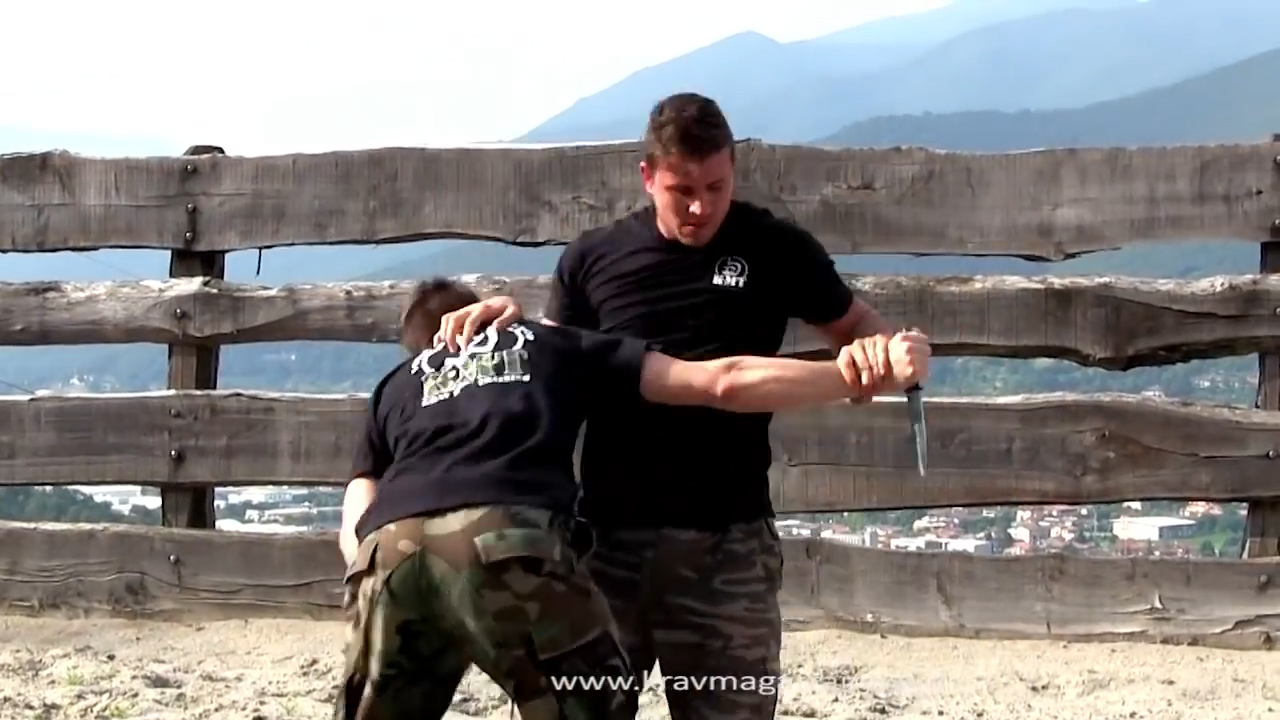knife: (889, 320, 938, 485)
